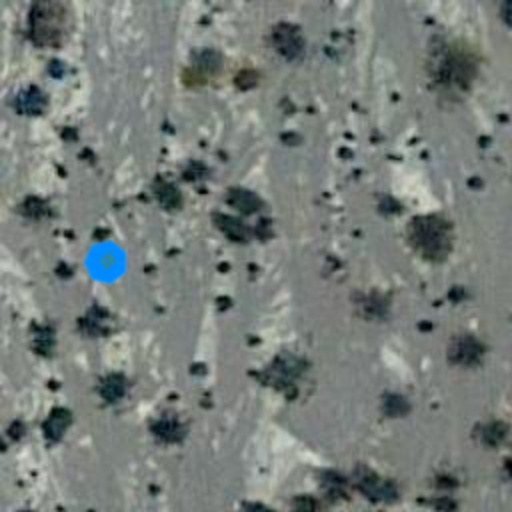heptagon: (74, 230, 138, 294)
